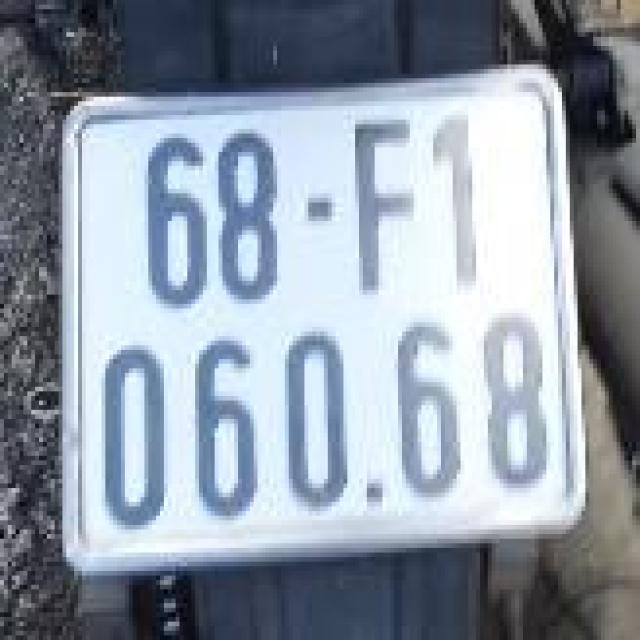0: (101, 324, 176, 546), (275, 318, 357, 511)
1: (433, 99, 492, 297)
6: (136, 113, 218, 320), (384, 306, 466, 509), (188, 327, 266, 534)
8: (470, 302, 552, 508), (210, 124, 292, 313)
F: (346, 106, 420, 295)
